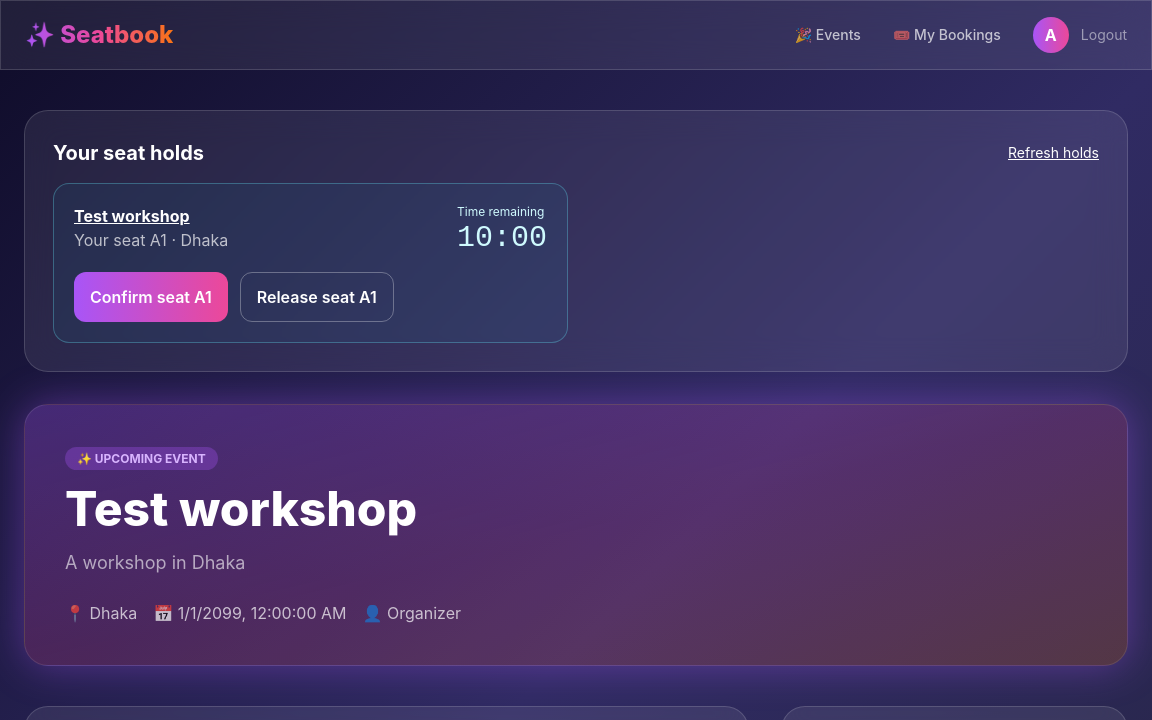
Test case: handles rejected release without claiming success
The image size is (1152, 720).
Expected: the button "Confirm seat A1" is enabled, [74, 272, 228, 322]
Click the button "Release seat A1".
click(317, 297)  # box [240, 272, 394, 322]
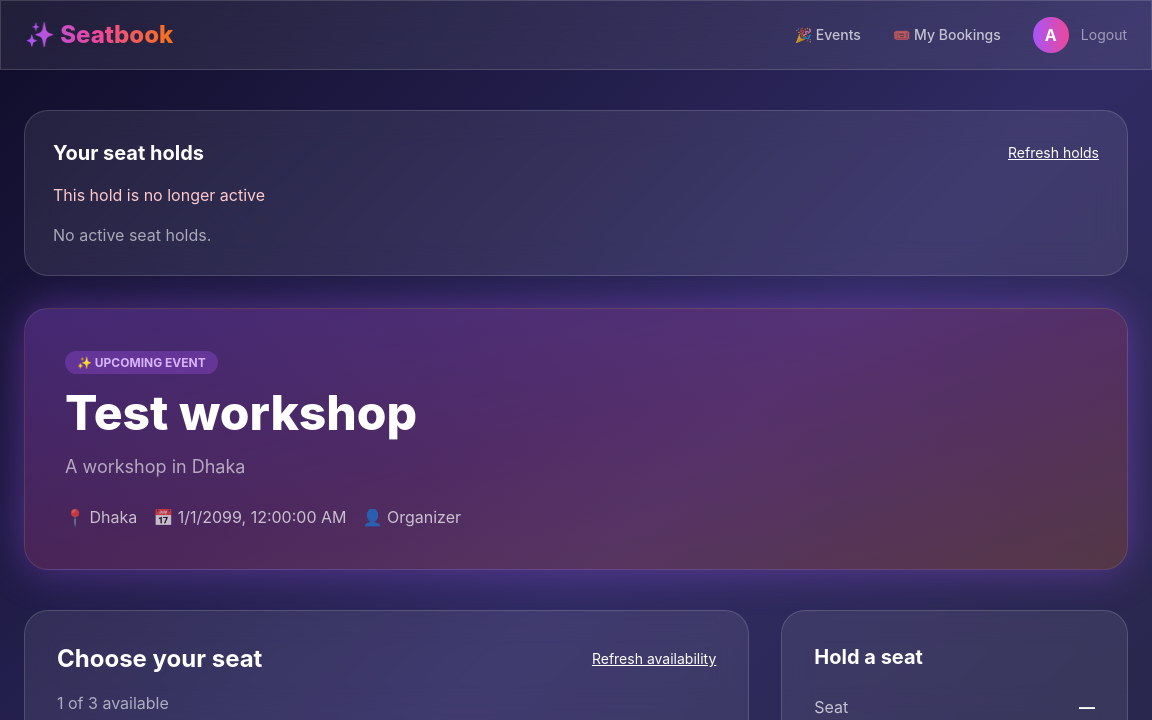
Expected: the message shows "no longer active", [53, 185, 265, 205]
